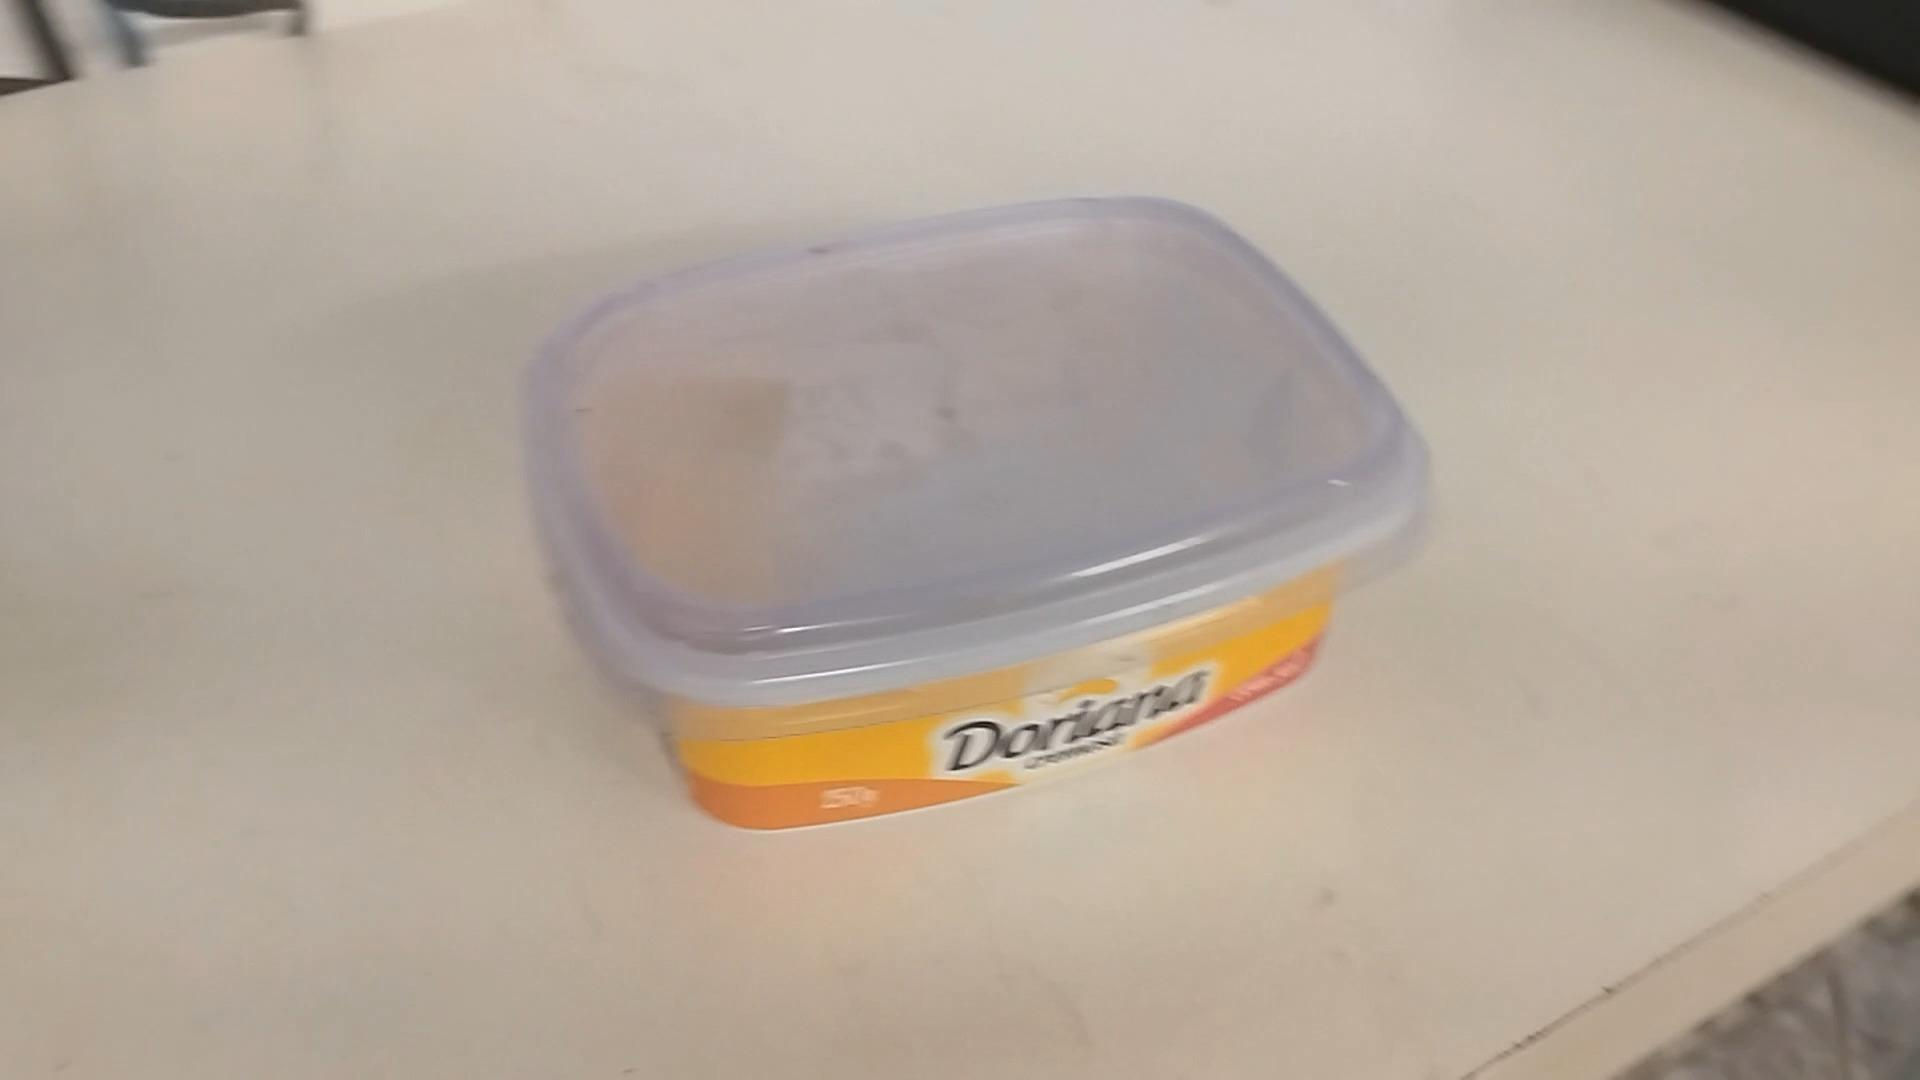butter: (522, 210, 1432, 840)
